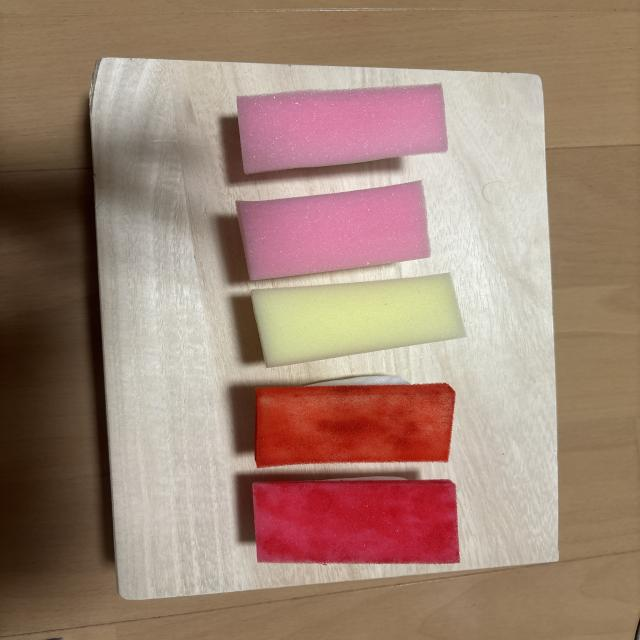maguro: (253, 478, 459, 564)
salmon: (255, 375, 455, 467)
tai: (237, 181, 430, 280), (237, 84, 448, 173)
tamago: (251, 273, 465, 367)
